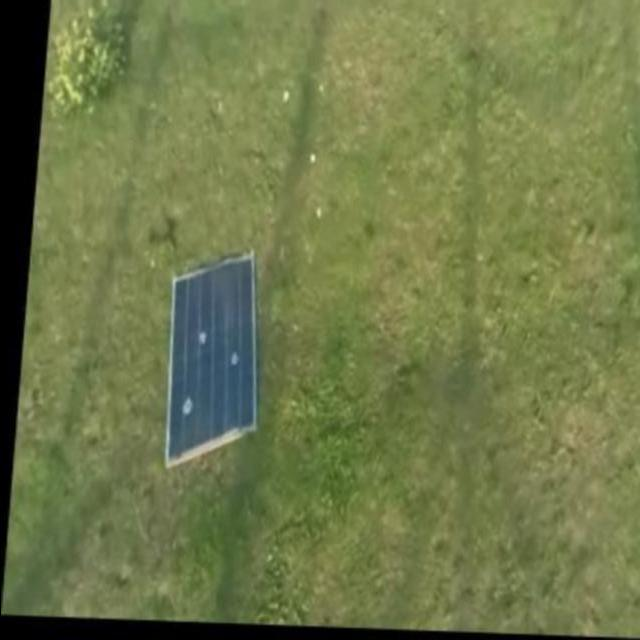soiled: (165, 240, 258, 470)
